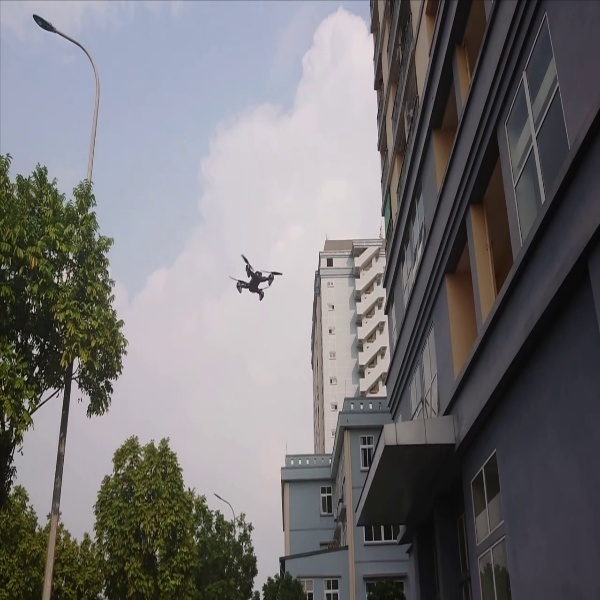drone: (227, 247, 281, 304)
